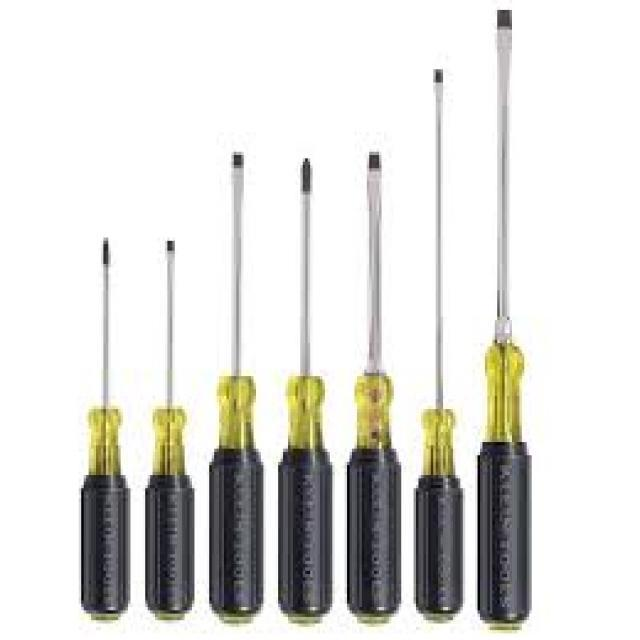screwdriver: (472, 8, 534, 635), (408, 68, 468, 626), (204, 145, 268, 630), (342, 145, 404, 630), (274, 153, 336, 632), (140, 235, 202, 626), (78, 234, 134, 630)
